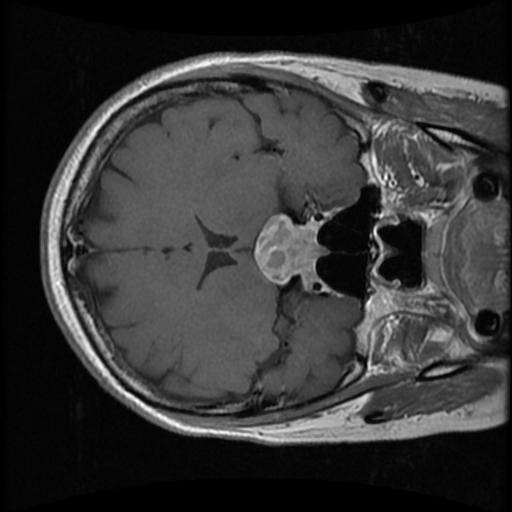pituitary tumour: (253, 214, 330, 292)
